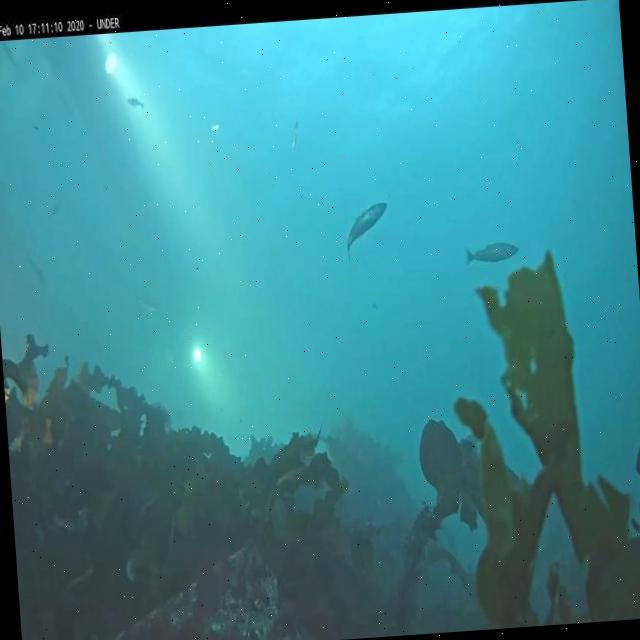fish: (344, 201, 391, 261), (464, 240, 518, 266), (136, 292, 156, 312), (289, 118, 300, 152), (126, 96, 146, 110)
